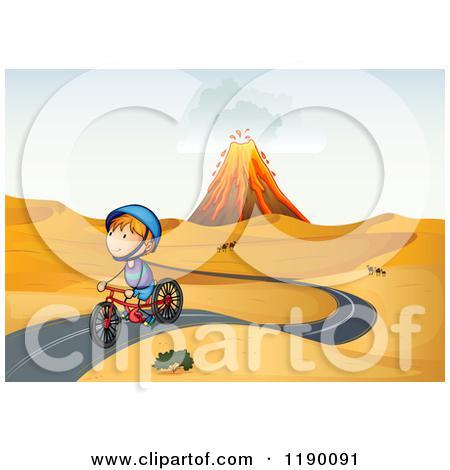bicycle: (83, 278, 193, 348)
person: (101, 208, 161, 330)
